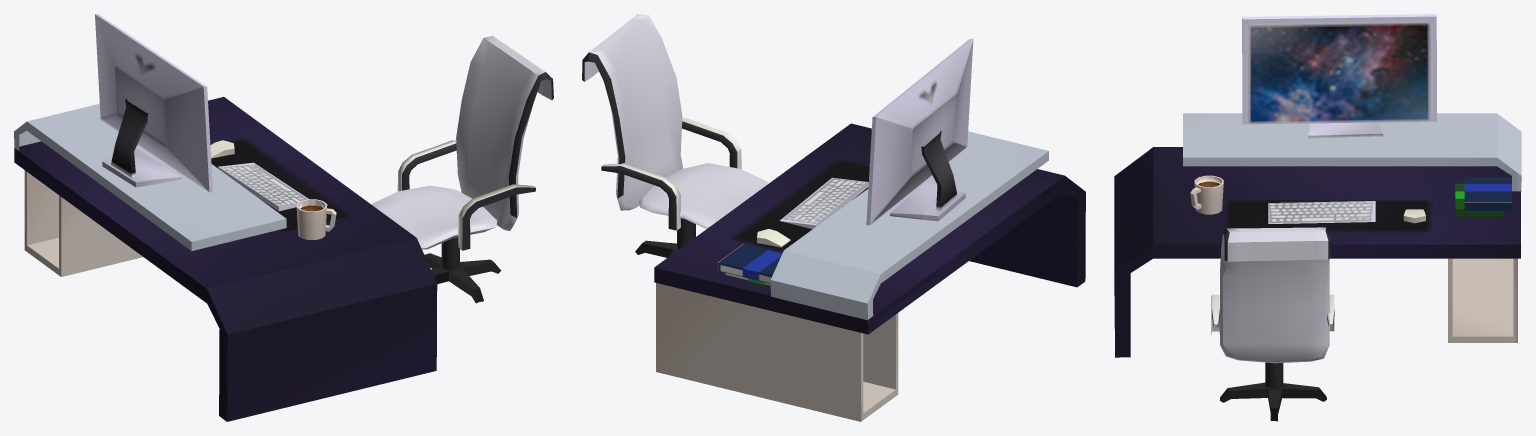
The model's file is Lux_Comp_T9.fbx.
3 views of the same model, side by side, from view 1: azimuth 30°, elevation 25°; view 2: azimuth 150°, elevation 25°; view 3: azimuth 270°, elevation 25° (orthographic). The views are drawn at different scales.
Visible parts, largest first — view 1: Lux_Comp_T9; view 2: Lux_Comp_T9; view 3: Lux_Comp_T9.
Boxes of the visible parts, box(x1,y1,x2,y2) form: Lux_Comp_T9: box(14, 14, 553, 421); Lux_Comp_T9: box(582, 14, 1085, 421); Lux_Comp_T9: box(1114, 14, 1521, 421).
Bounding box in the file's own units: 11.27 × 7.71 × 10.81.
1 material, 1 textured.
